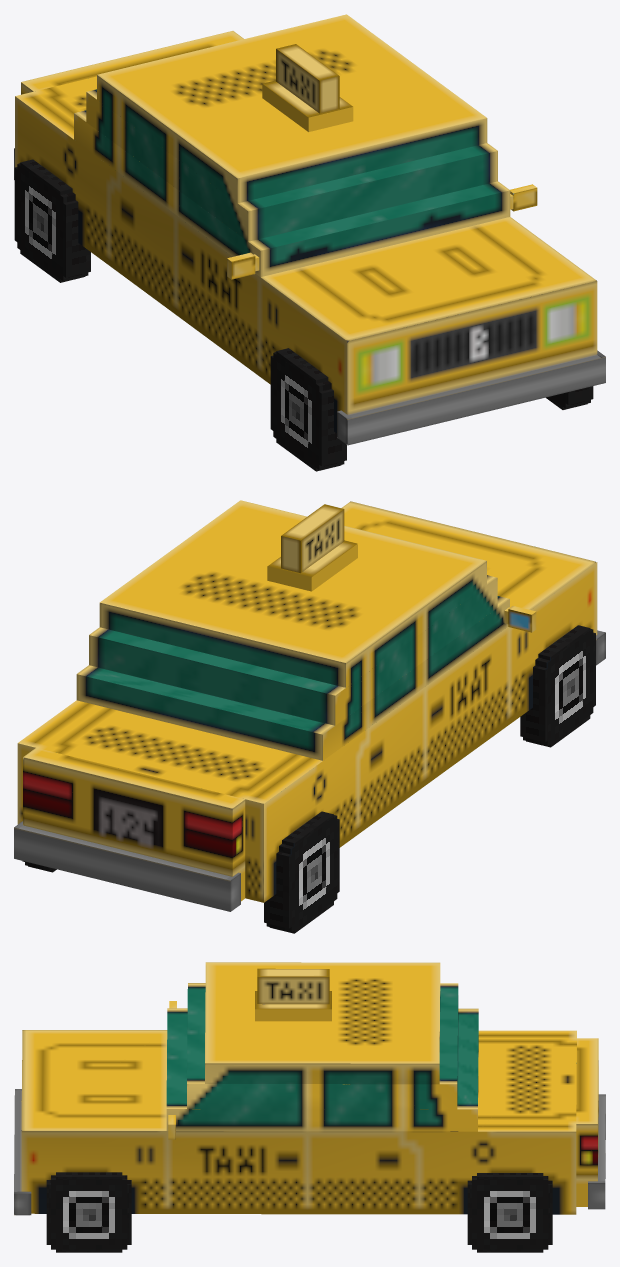
The model's file is BGN_TAXI CAR.fbx.
3 views of the same model, one above another, from view 1: azimuth 30°, elevation 25°; view 2: azimuth 150°, elevation 25°; view 3: azimuth 270°, elevation 25° (orthographic). The views are drawn at different scales.
Parts seen in each view (by area): view 1: BGN_TAXI_CAR, R_R__7_, R_R__5_, R_R__6_; view 2: BGN_TAXI_CAR, R_R__7_, R_R__5_; view 3: BGN_TAXI_CAR, R_R__6_, R_R__8_.
Part boxes in pixels (x1,y1,x2,y2): BGN_TAXI_CAR: [14, 14, 605, 445]; R_R__7_: [14, 159, 90, 282]; R_R__5_: [270, 348, 346, 471]; R_R__6_: [546, 386, 593, 409]; BGN_TAXI_CAR: [14, 500, 605, 911]; R_R__7_: [264, 811, 339, 933]; R_R__5_: [520, 625, 595, 747]; BGN_TAXI_CAR: [14, 962, 605, 1215]; R_R__6_: [46, 1172, 131, 1252]; R_R__8_: [467, 1173, 552, 1252].
Size of the model in its own units: 216 by 183 by 437.
2 materials, 2 textured.
